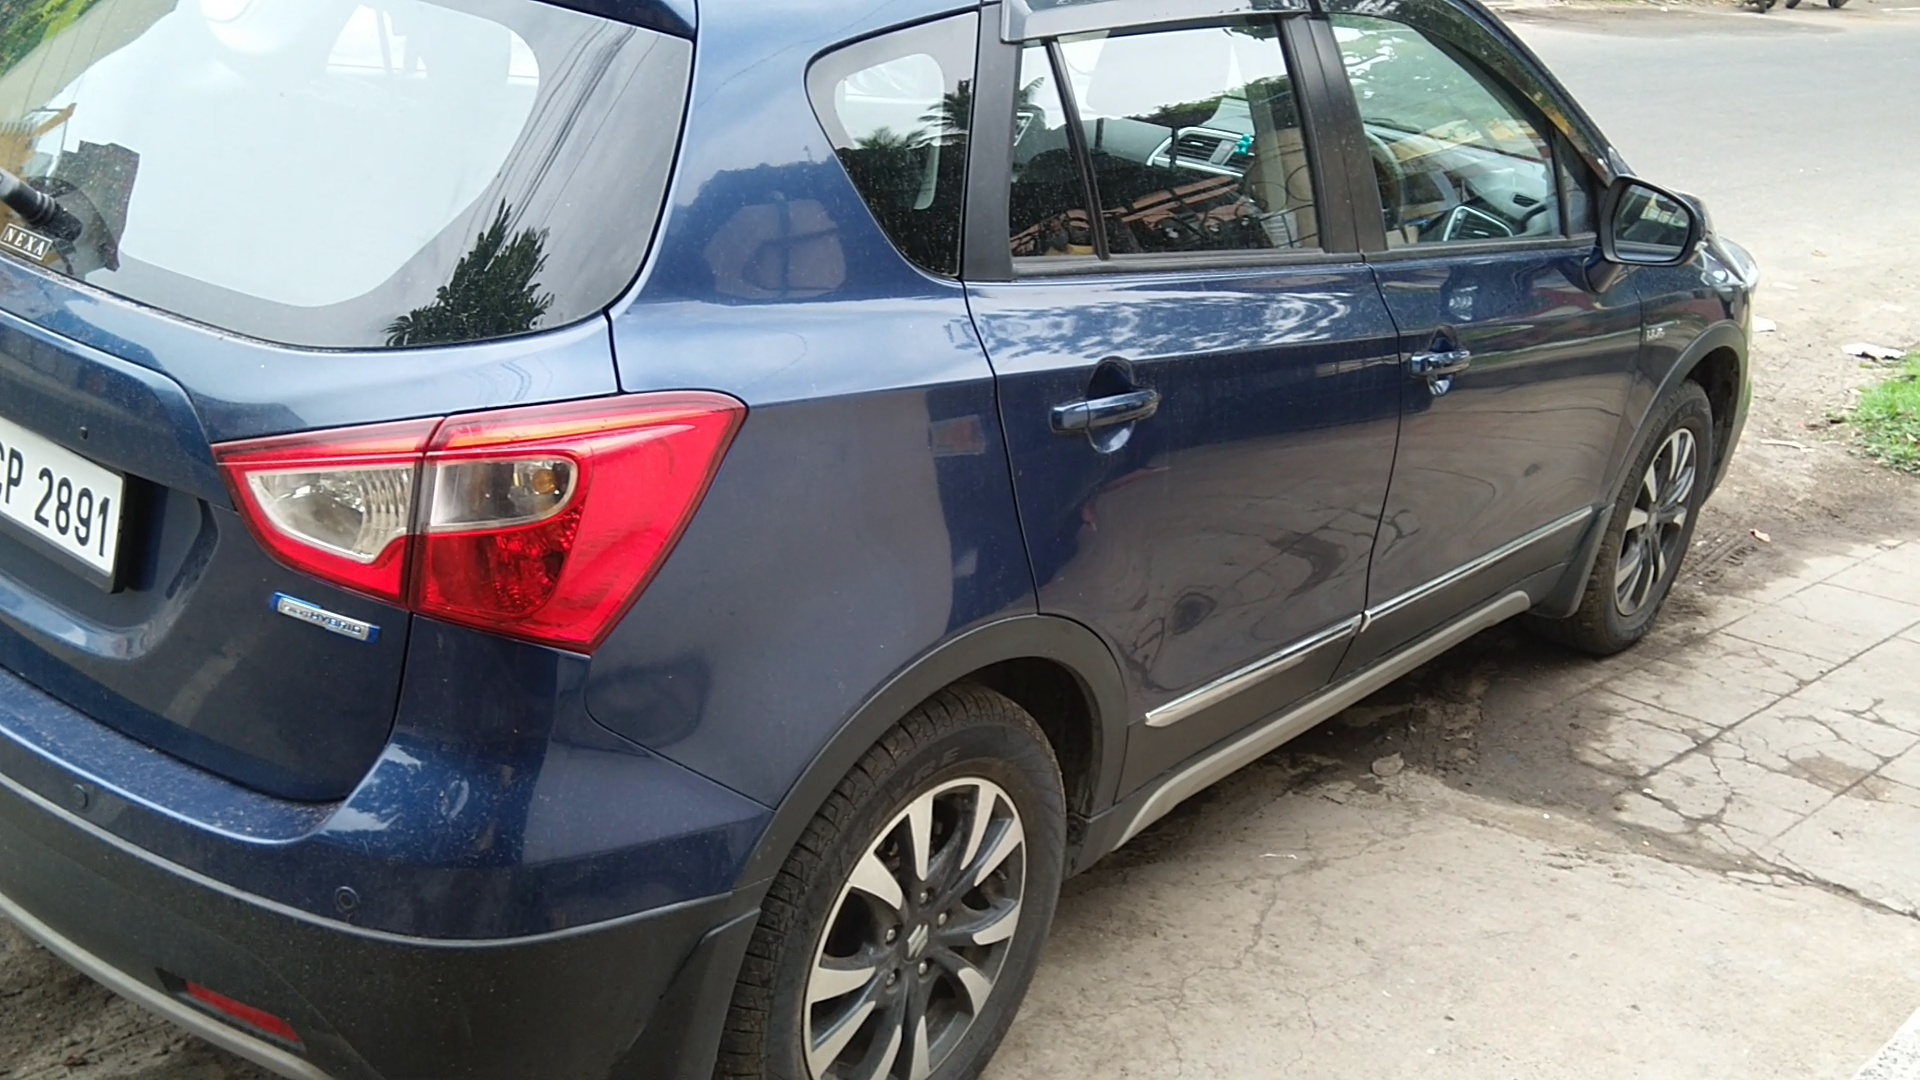alloy_wheel: (736, 676, 1109, 1080), (1578, 382, 1731, 650)
shvs: (255, 580, 392, 662)
